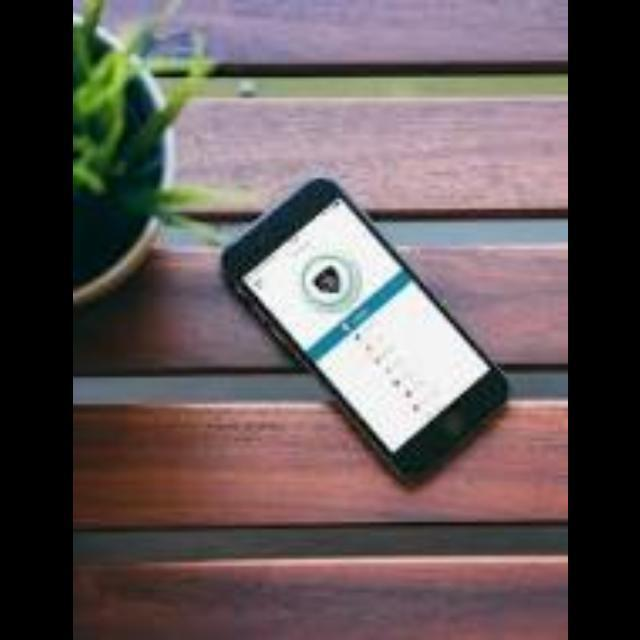PhoneUse: (211, 173, 514, 482)
